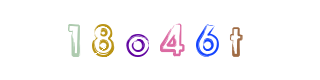1: (86, 0, 166, 80)
4: (120, 0, 200, 80)
6: (132, 0, 212, 80)
8: (97, 0, 177, 80)
O: (105, 0, 185, 80)
T: (166, 0, 246, 80)
